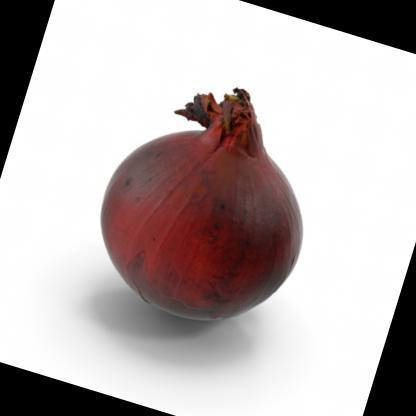onion: (58, 48, 362, 366)
